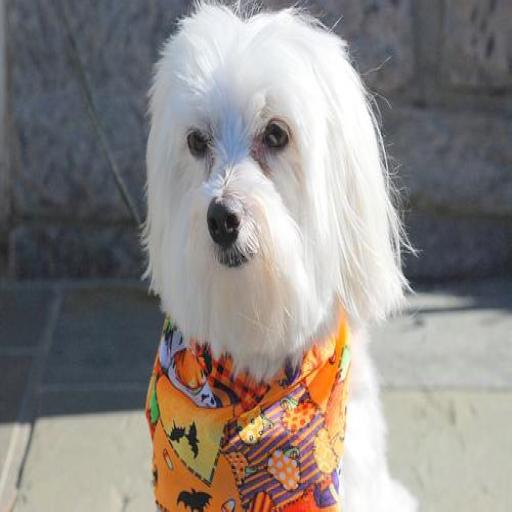dog_face: (140, 2, 392, 344)
